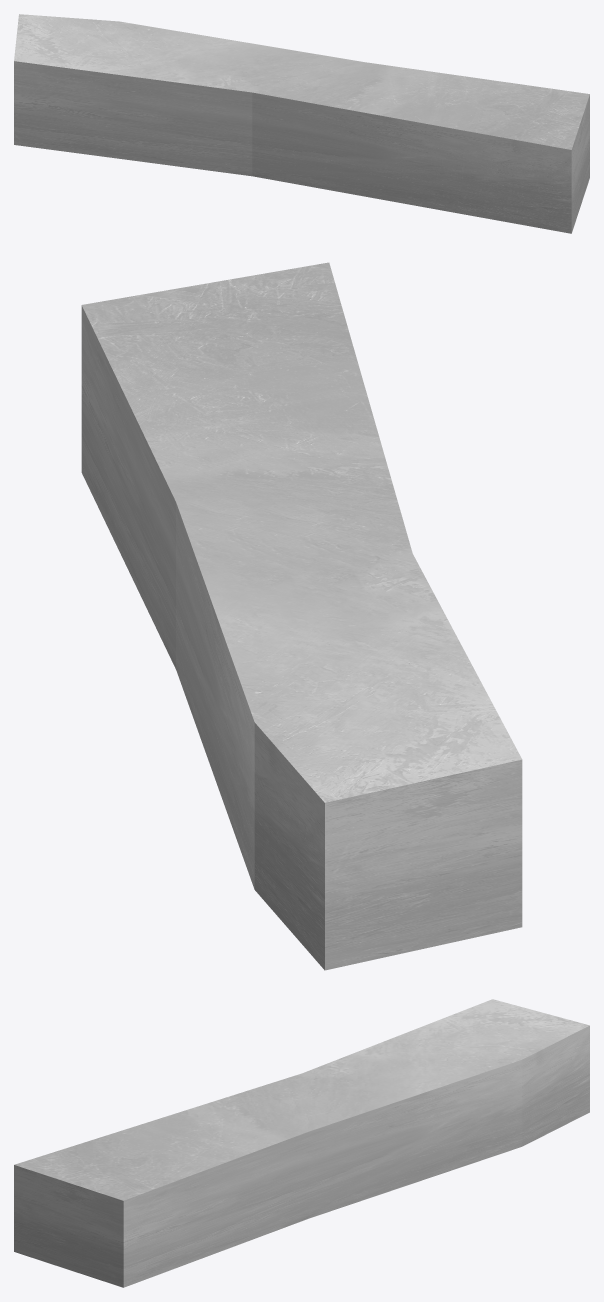
File: blanc5.FBX
3 views of the same model, one above another, from view 1: azimuth 30°, elevation 25°; view 2: azimuth 150°, elevation 25°; view 3: azimuth 270°, elevation 25° (orthographic). The views are drawn at different scales.
Visible parts, largest first — view 1: Ligne033; view 2: Ligne033; view 3: Ligne033.
Part boxes in pixels (<box>): Ligne033: <box>14,14,589,233</box>; Ligne033: <box>81,262,522,970</box>; Ligne033: <box>14,999,589,1287</box>.
Bounding box in the file's own units: 15.76 × 3.17 × 19.02.
1 material, 1 textured.
